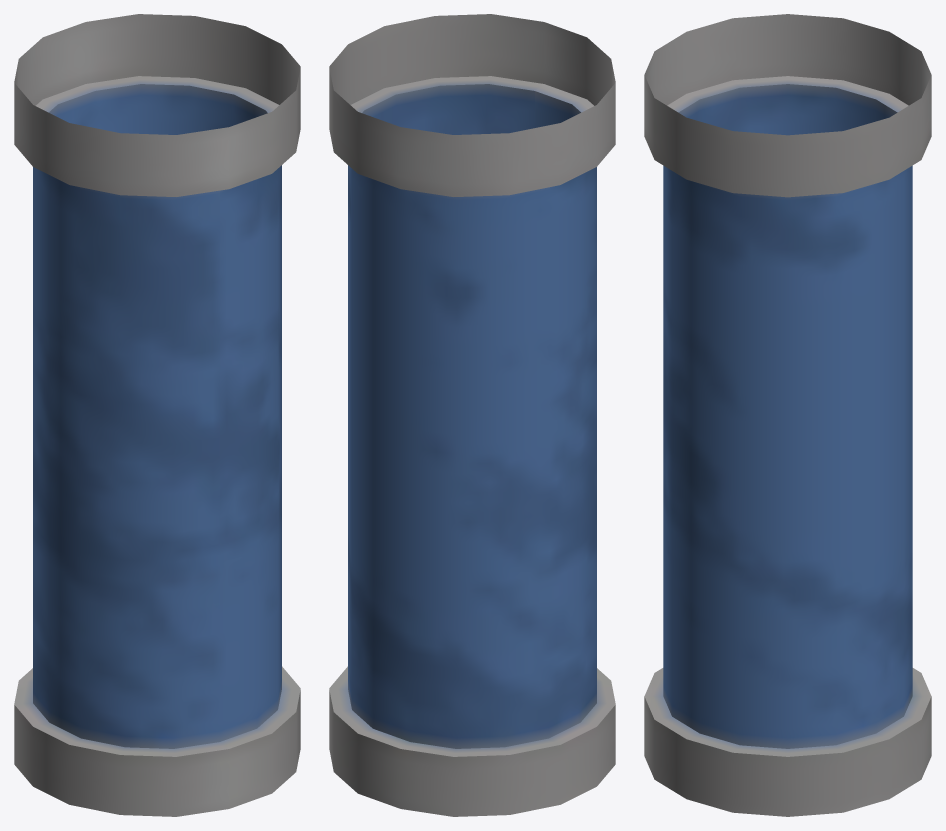
File: Pipe1.fbx
3 views of the same model, side by side, from view 1: azimuth 30°, elevation 25°; view 2: azimuth 150°, elevation 25°; view 3: azimuth 270°, elevation 25° (orthographic).
Parts seen in each view (by area): view 1: Mat_Pipe_01; view 2: Mat_Pipe_01; view 3: Mat_Pipe_01.
Boxes of the visible parts, left/top/right/bottom form: Mat_Pipe_01: left=14, top=14, right=300, bottom=816; Mat_Pipe_01: left=329, top=14, right=615, bottom=816; Mat_Pipe_01: left=644, top=14, right=931, bottom=816.
Bounding box in the file's own units: 0.3455 × 0.9049 × 0.3455.
1 material, 1 textured.
